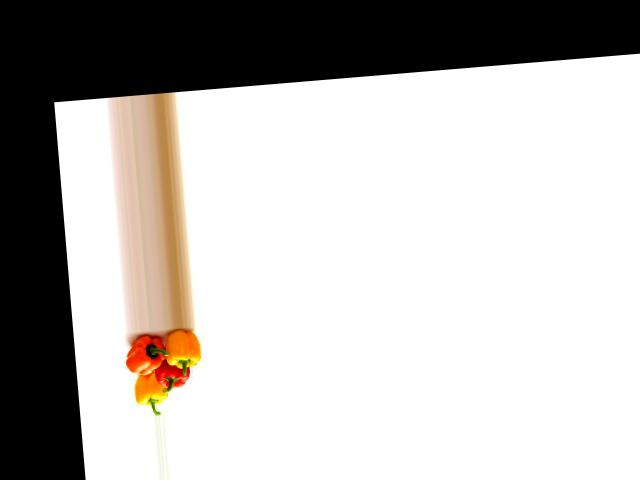bell_pepper: (153, 327, 203, 376)
